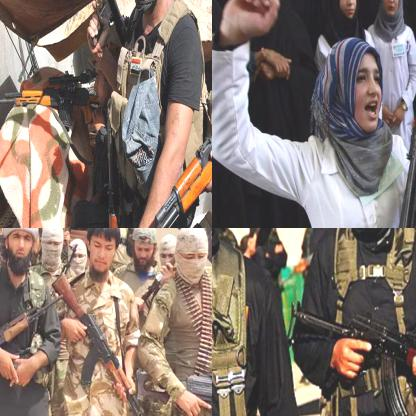rifle: (286, 298, 415, 415), (49, 272, 154, 415), (121, 80, 211, 227), (0, 292, 67, 386), (0, 71, 100, 131), (393, 0, 415, 227), (51, 0, 132, 54), (134, 363, 211, 415), (95, 113, 129, 227)
